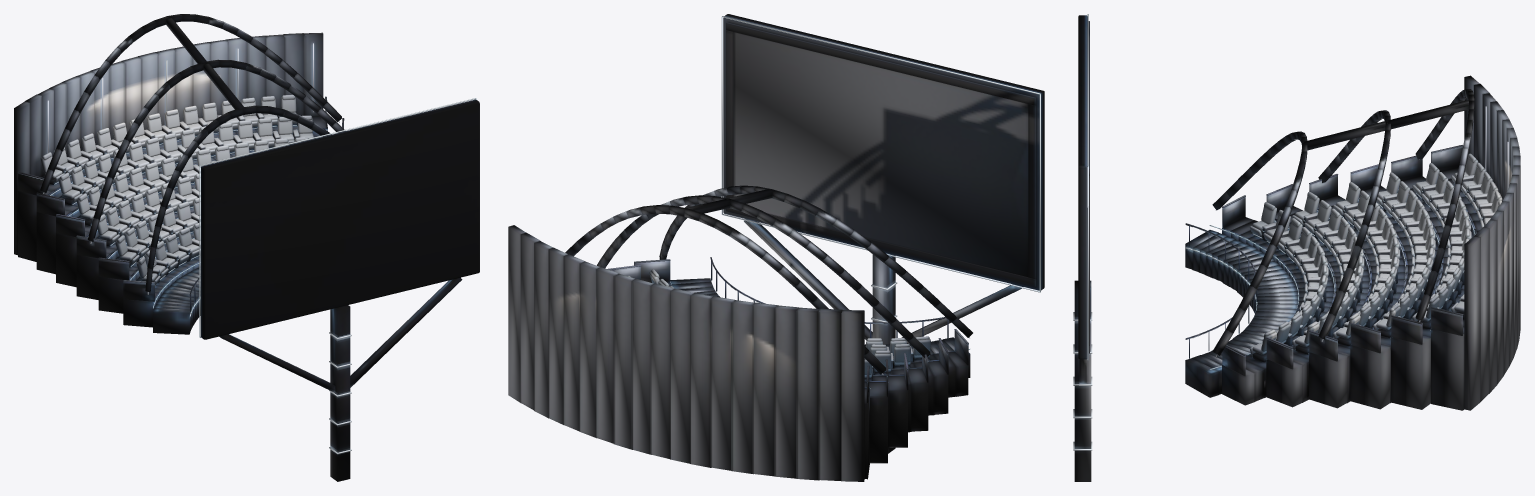
The model's file is space_deck.glb.
The picture shows the model from 3 angles, left to right: view 1: azimuth 30°, elevation 25°; view 2: azimuth 150°, elevation 25°; view 3: azimuth 270°, elevation 25°; orthographic projection. The views are drawn at different scales.
Visible parts, largest first — view 1: space_deck, space_seats; view 2: space_deck, space_seats; view 3: space_deck, space_seats.
Part boxes in pixels (x1,y1,x2,y2): space_deck: (14,14,479,481); space_seats: (40,94,322,285); space_deck: (508,14,1044,481); space_seats: (627,269,930,380); space_deck: (1073,14,1520,481); space_seats: (1249,153,1502,362).
Bounding box in the file's own units: 16.91 × 18 × 18.77.
Materials: 2 (2 with a texture image).
